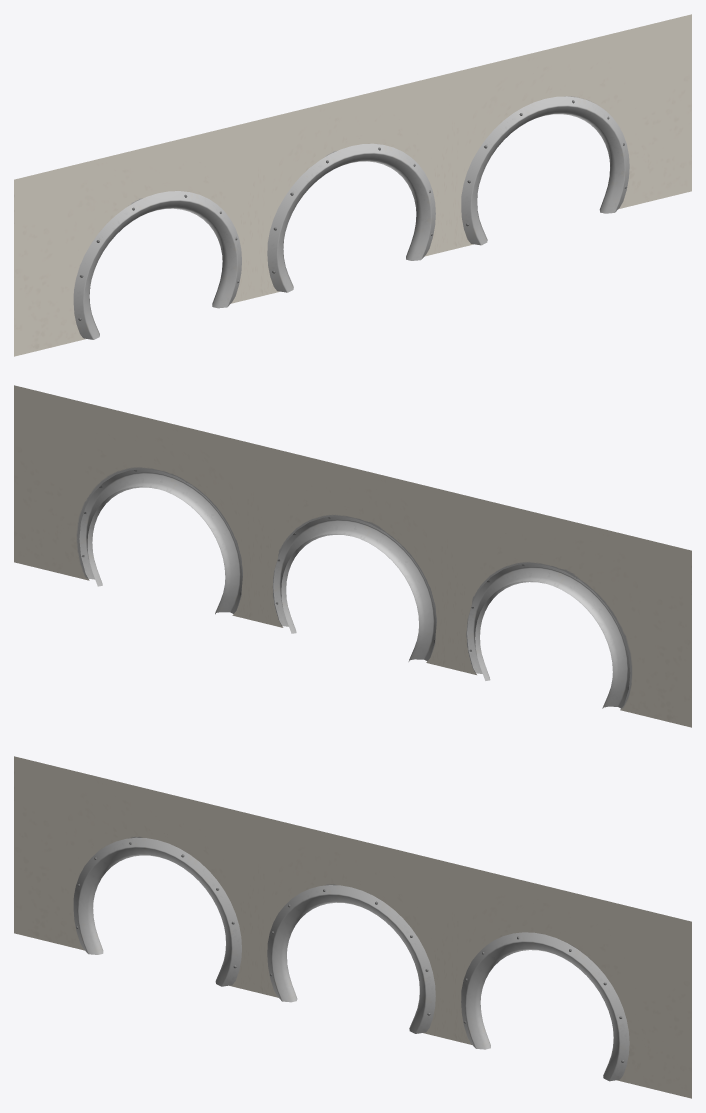
File: ExpLab_Window00.fbx
3 renders of one model, top to bottom at view 1: azimuth 30°, elevation 25°; view 2: azimuth 150°, elevation 25°; view 3: azimuth 330°, elevation 25°, orthographic.
Visible parts, largest first — view 1: ExpLab_Window00; view 2: ExpLab_Window00; view 3: ExpLab_Window00.
Boxes of the visible parts, box(x1,y1,x2,y2) form: ExpLab_Window00: box(14, 14, 691, 356); ExpLab_Window00: box(14, 385, 691, 727); ExpLab_Window00: box(14, 756, 691, 1098).
Size of the model in its own units: 80.05 by 20.02 by 1.43.
